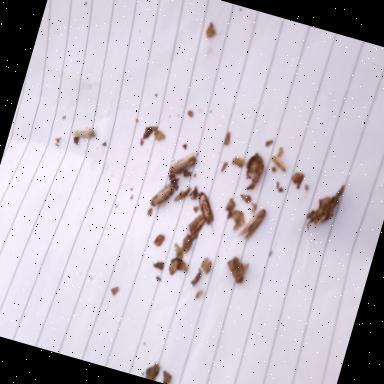pbw: (189, 190, 224, 233), (238, 204, 266, 249), (166, 146, 195, 182), (146, 174, 172, 214), (70, 122, 98, 145), (150, 258, 165, 272)
